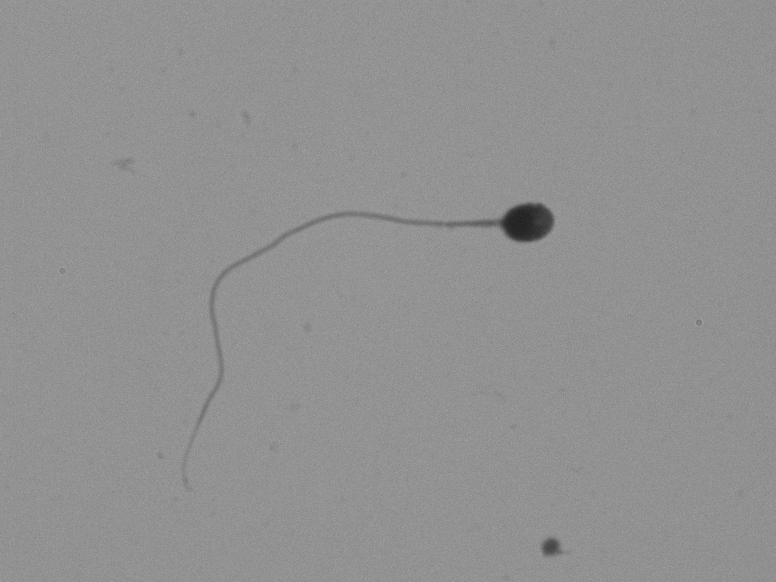Normal: (151, 160, 612, 395)
